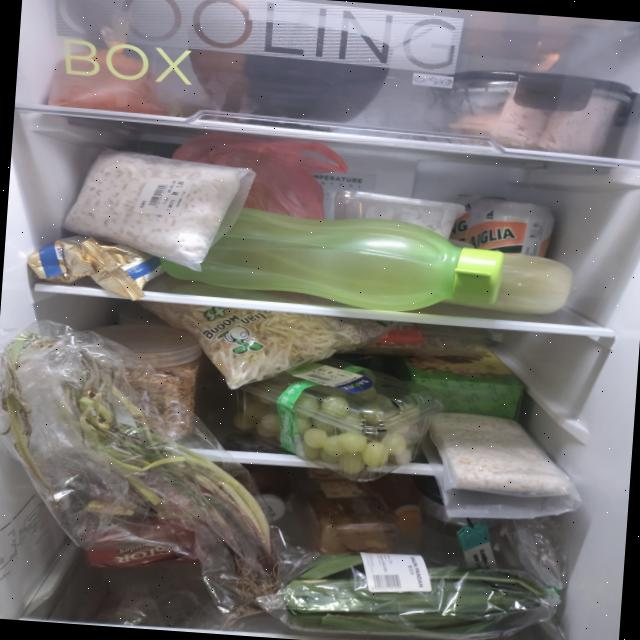bean_sprouts: (130, 300, 368, 398)
corn: (440, 248, 576, 318)
grape: (230, 376, 423, 478)
leafy_greens: (279, 548, 550, 640)
spring_onion: (0, 328, 296, 605)
tempeh: (58, 147, 240, 265), (423, 410, 576, 497)
